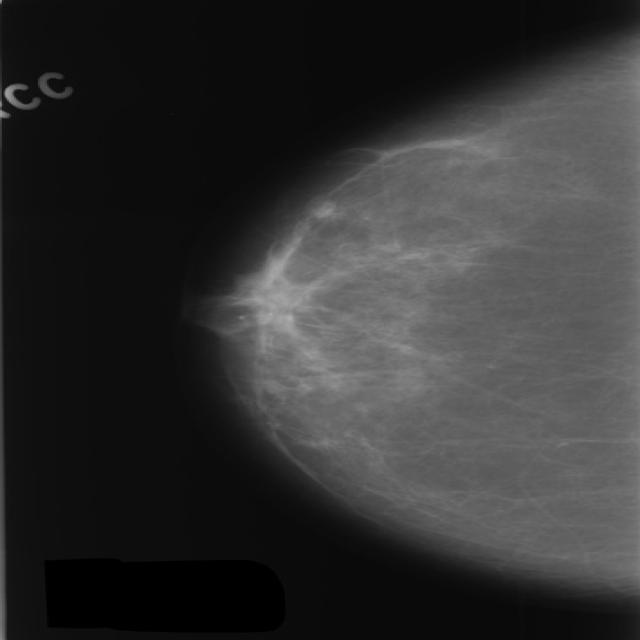tumour: (303, 194, 333, 218)
